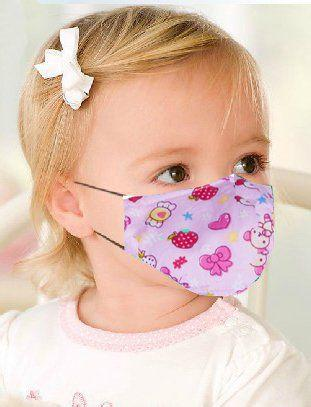OK: (109, 130, 272, 297)
